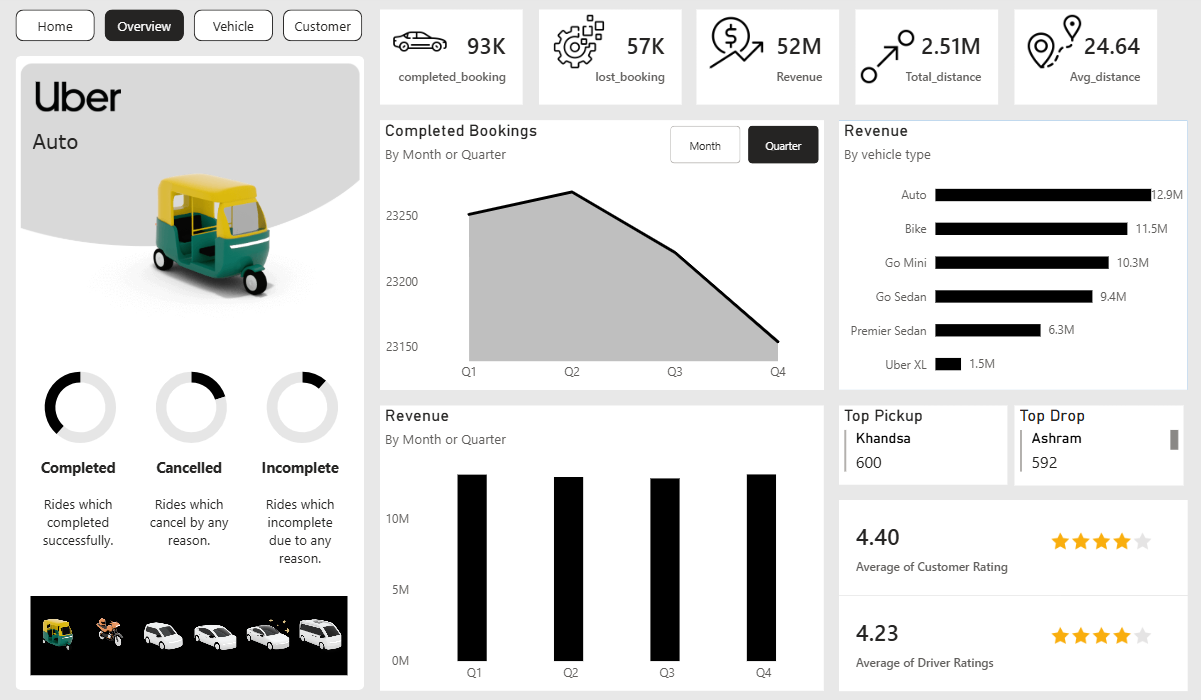

Layout of this report page (visuals, bound fields, positions):
{"tool":"powerbi","page":{"name":"Overview","canvas":[1280,720],"ordinal":1},"visuals":[{"type":"shape","box":[912,128,352,272],"z":0},{"type":"shape","box":[0,0,64,720],"z":1000},{"type":"shape","box":[80,64,352,640],"z":2000},{"type":"image","box":[80,32,352,400],"z":3000},{"type":"image","box":[96,80,96,48],"z":4000},{"type":"cardVisual","fields":{"Data":["_Measures.completed_booking"]},"box":[448,16,144,96],"z":5000},{"type":"cardVisual","fields":{"Data":["_Measures.lost_booking"]},"box":[608,16,144,96],"z":6000},{"type":"cardVisual","fields":{"Data":["_Measures.booking_value"]},"box":[768,16,144,96],"z":7000},{"type":"cardVisual","fields":{"Data":["_Measures.Total_distance"]},"box":[928,16,144,96],"z":8000},{"type":"cardVisual","fields":{"Data":["_Measures.Avg_distance"]},"box":[1088,16,144,96],"z":9000},{"type":"advancedSlicerVisual","fields":{"Values":["IMG.Vehicle Type"]},"box":[96,608,320,80],"z":10000},{"type":"cardVisual","fields":{"Data":["Min(Uber.ve_type)"]},"box":[80,112,224,64],"z":11000},{"type":"cardVisual","fields":{"Data":["Min(IMG.Img)"]},"box":[128,80,304,336],"z":12000},{"type":"columnChart","title":"Revenue","fields":{"Category":["Calender.Quarter"],"Y":["_Measures.booking_value"]},"box":[448,416,448,288],"z":13000},{"type":"shape","box":[448,128,448,272],"z":14000},{"type":"areaChart","title":"Completed Bookings","fields":{"Category":["Calender.Quarter"],"Y":["_Measures.completed_booking"]},"box":[448,128,448,272],"z":15000,"group":"g1"},{"type":"barChart","title":"Revenue","fields":{"Y":["_Measures.booking_value"],"Category":["Uber.ve_type"]},"box":[912,128,352,272],"z":15000},{"type":"advancedSlicerVisual","fields":{"Values":["Date Axis.Date Axis"]},"box":[736,128,160,48],"z":16000,"group":"g1"},{"type":"multiRowCard","title":"Top Pickup","fields":{"Values":["Uber.Pickup Location","_Measures.completed_booking"]},"box":[912,416,170,80],"z":16000},{"type":"multiRowCard","title":"Top Drop","fields":{"Values":["_Measures.completed_booking","Uber.Drop Location"]},"box":[1088,416,170,80],"z":17000},{"type":"image","box":[448,16,80,64],"z":18000},{"type":"image","box":[608,16,80,64],"z":19000},{"type":"image","box":[768,16,80,64],"z":20000},{"type":"image","box":[928,32,64,64],"z":21000},{"type":"image","box":[1088,16,80,64],"z":22000},{"type":"shape","box":[912,512,352,96],"z":23000},{"type":"shape","box":[912,608,352,96],"z":24000},{"type":"cardVisual","fields":{"Data":["Avg(Uber.Customer Rating)"]},"box":[912,512,224,96],"z":25000},{"type":"cardVisual","fields":{"Data":["Avg(Uber.Driver Ratings)"]},"box":[912,608,224,96],"z":26000},{"type":"image","box":[1072,496,208,112],"z":27000},{"type":"image","box":[1072,592,208,112],"z":28000},{"type":"donutChart","fields":{"Y":["_Measures.Booking_count","_Measures.remove_filter_completed_booking"]},"box":[208,368,100,100],"z":29000},{"type":"donutChart","fields":{"Y":["_Measures.Booking_count","_Measures.remove_filter_completed_booking"]},"box":[320,368,100,100],"z":30000},{"type":"donutChart","fields":{"Y":["_Measures.remove_filter_completed_booking","_Measures.Booking_count"]},"box":[96,368,100,100],"z":31000},{"type":"textbox","box":[96,464,96,128],"z":32000},{"type":"textbox","box":[208,464,96,128],"z":33000},{"type":"textbox","box":[320,464,96,128],"z":34000},{"type":"group","id":"g1","title":"Group 1","box":[448,128,448,272],"z":35000},{"type":"pageNavigator","box":[80,16,352,32],"z":36000}]}

Visuals, with their boxes on the page's 1280x720 design canvas (x1, y1, x2, y2). These are canvas units, not pixel positions in the 1201x700 screenshot, which may show the page scaled, cropped or inside an application window:
shape: [912, 128, 1264, 400]
shape: [0, 0, 64, 720]
shape: [80, 64, 432, 704]
image: [80, 32, 432, 432]
image: [96, 80, 192, 128]
cardVisual - _Measures.completed_booking: [448, 16, 592, 112]
cardVisual - _Measures.lost_booking: [608, 16, 752, 112]
cardVisual - _Measures.booking_value: [768, 16, 912, 112]
cardVisual - _Measures.Total_distance: [928, 16, 1072, 112]
cardVisual - _Measures.Avg_distance: [1088, 16, 1232, 112]
advancedSlicerVisual - IMG.Vehicle Type: [96, 608, 416, 688]
cardVisual - Min(Uber.ve_type): [80, 112, 304, 176]
cardVisual - Min(IMG.Img): [128, 80, 432, 416]
"Revenue" columnChart: [448, 416, 896, 704]
shape: [448, 128, 896, 400]
"Completed Bookings" areaChart: [448, 128, 896, 400]
"Revenue" barChart: [912, 128, 1264, 400]
advancedSlicerVisual - Date Axis.Date Axis: [736, 128, 896, 176]
"Top Pickup" multiRowCard: [912, 416, 1082, 496]
"Top Drop" multiRowCard: [1088, 416, 1258, 496]
image: [448, 16, 528, 80]
image: [608, 16, 688, 80]
image: [768, 16, 848, 80]
image: [928, 32, 992, 96]
image: [1088, 16, 1168, 80]
shape: [912, 512, 1264, 608]
shape: [912, 608, 1264, 704]
cardVisual - Avg(Uber.Customer Rating): [912, 512, 1136, 608]
cardVisual - Avg(Uber.Driver Ratings): [912, 608, 1136, 704]
image: [1072, 496, 1280, 608]
image: [1072, 592, 1280, 704]
donutChart - _Measures.Booking_count x _Measures.remove_filter_completed_booking: [208, 368, 308, 468]
donutChart - _Measures.Booking_count x _Measures.remove_filter_completed_booking: [320, 368, 420, 468]
donutChart - _Measures.remove_filter_completed_booking x _Measures.Booking_count: [96, 368, 196, 468]
textbox: [96, 464, 192, 592]
textbox: [208, 464, 304, 592]
textbox: [320, 464, 416, 592]
"Group 1" group: [448, 128, 896, 400]
pageNavigator: [80, 16, 432, 48]
